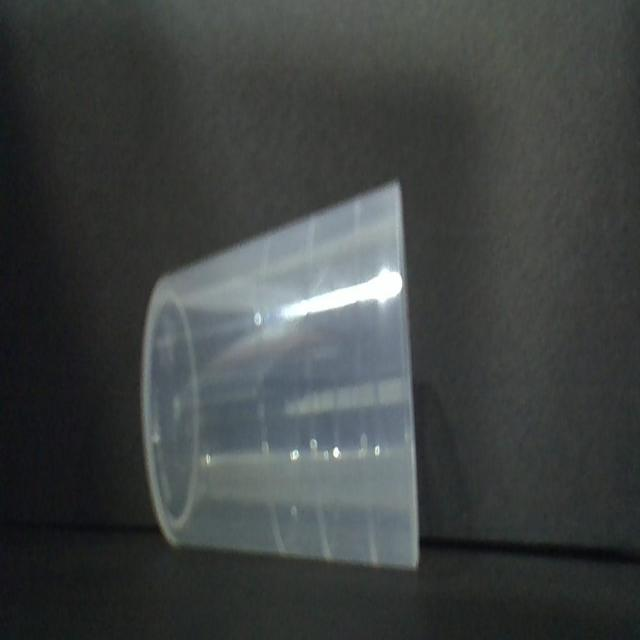cup: (133, 182, 439, 588)
